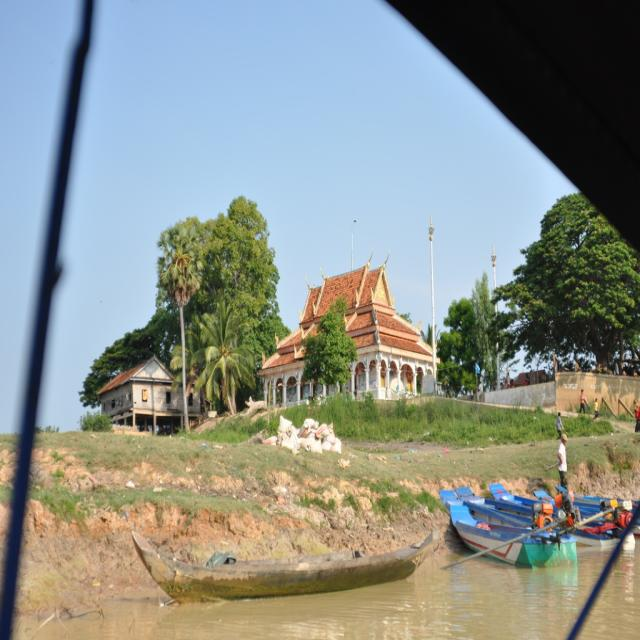Boat: (130, 526, 438, 600), (489, 484, 634, 552), (448, 503, 568, 567), (562, 482, 640, 526)
